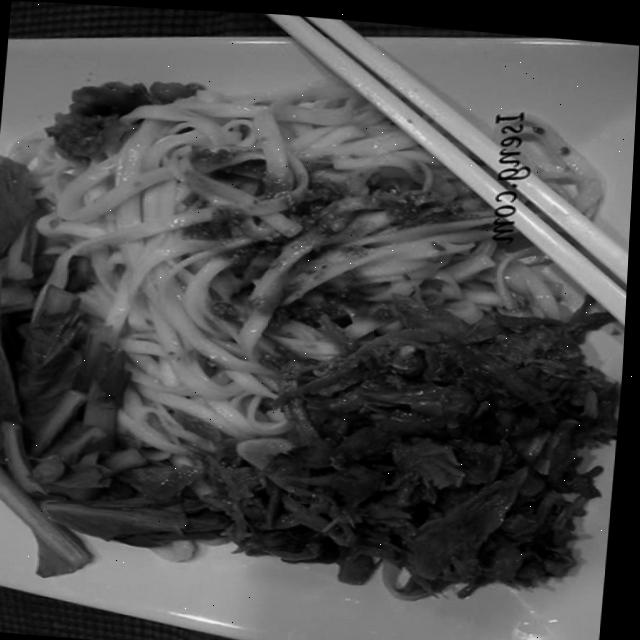面条主食: (0, 44, 608, 640)
